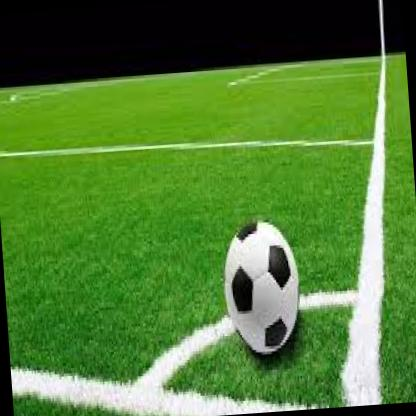ball: (220, 217, 304, 357)
